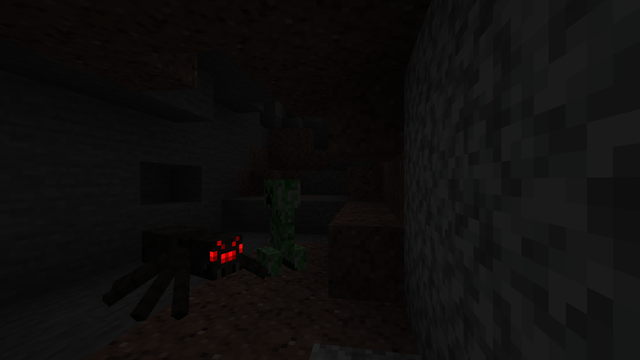araignees: (113, 219, 259, 315)
creepers: (259, 175, 301, 275)
